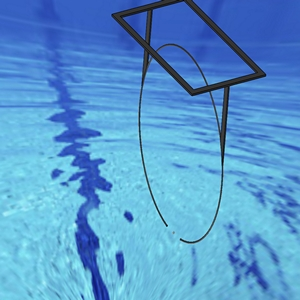circle: (108, 0, 268, 243)
